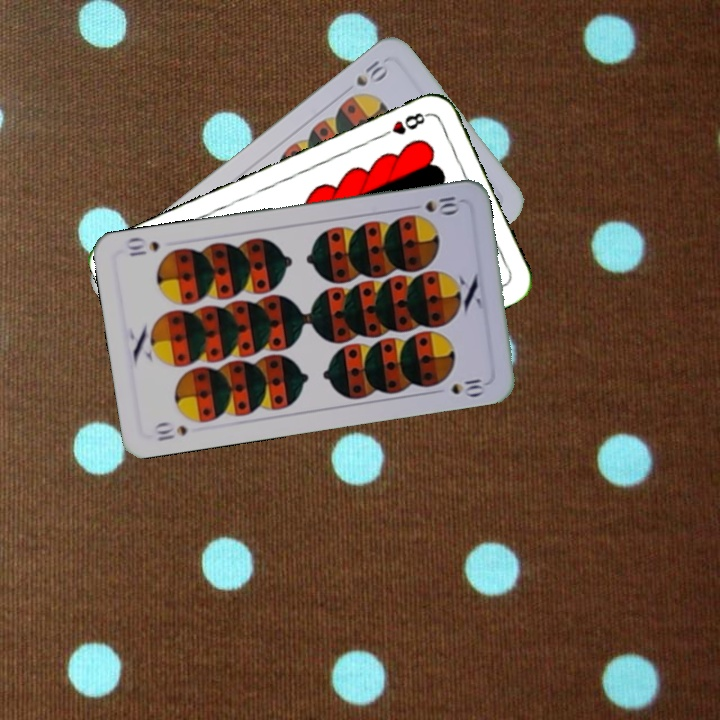H8: (376, 108, 431, 141)
S10: (404, 192, 462, 216), (351, 56, 391, 89), (150, 419, 190, 444)
